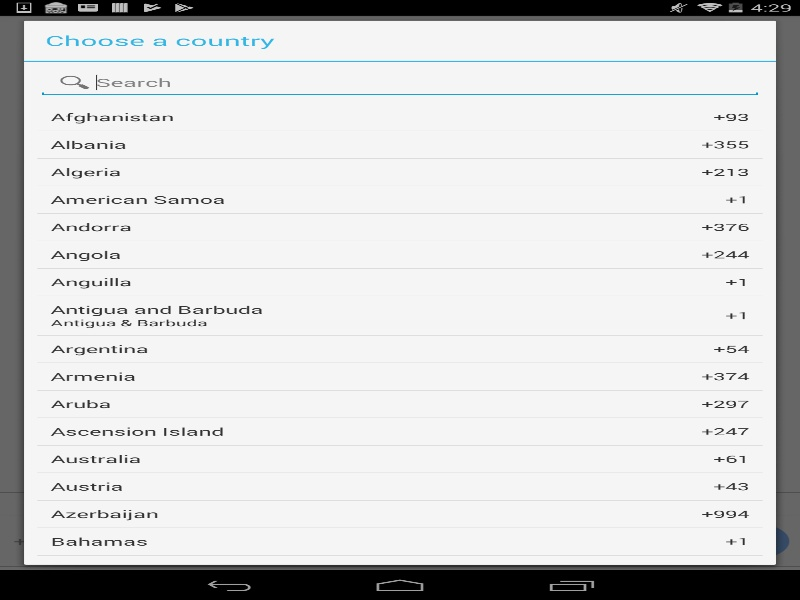Input: (37, 68, 762, 97)
